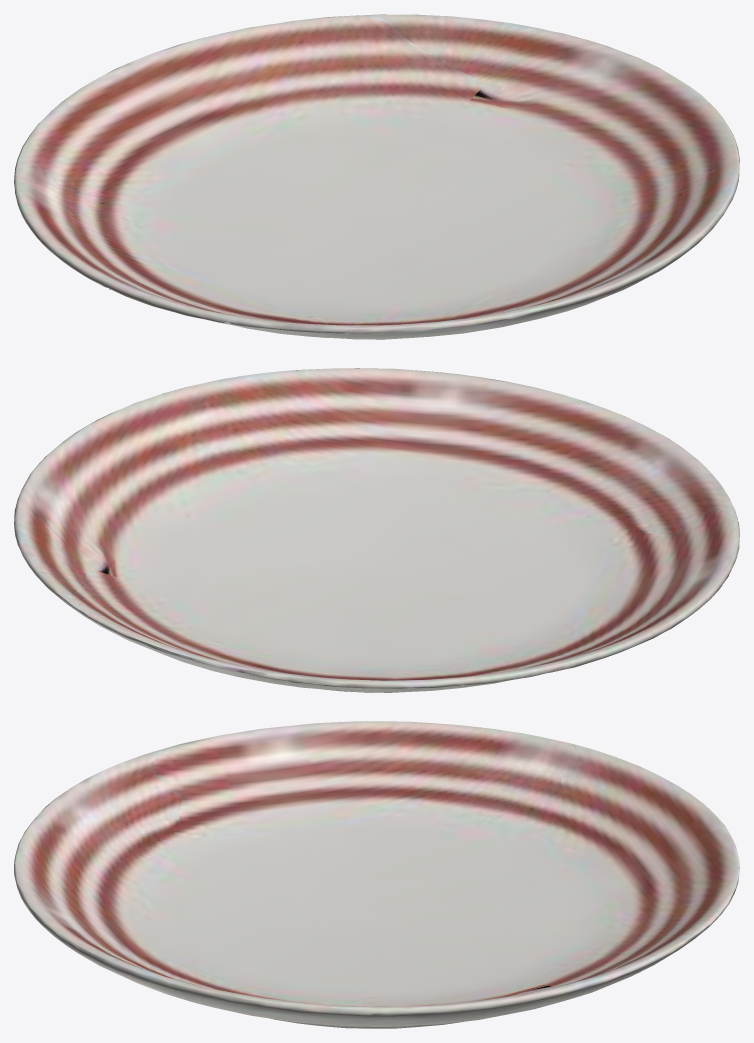
The model's file is gso_threshold_bistro_ceramic_dinner_plate_ruby_ring.glb.
3 views of the same model, one above another, from view 1: azimuth 30°, elevation 25°; view 2: azimuth 150°, elevation 25°; view 3: azimuth 270°, elevation 25° (orthographic).
Visible parts, largest first — view 1: z-up-to-y-up; view 2: z-up-to-y-up; view 3: z-up-to-y-up.
Boxes of the visible parts, left/top/right/bottom form: z-up-to-y-up: left=14, top=14, right=739, bottom=339; z-up-to-y-up: left=14, top=368, right=739, bottom=692; z-up-to-y-up: left=14, top=721, right=739, bottom=1028.
Size of the model in its own units: 0.2745 by 0.0333 by 0.274.
Materials: 1 (1 with a texture image).
